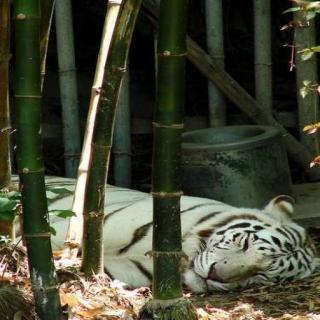Tiger: (33, 187, 318, 286)
